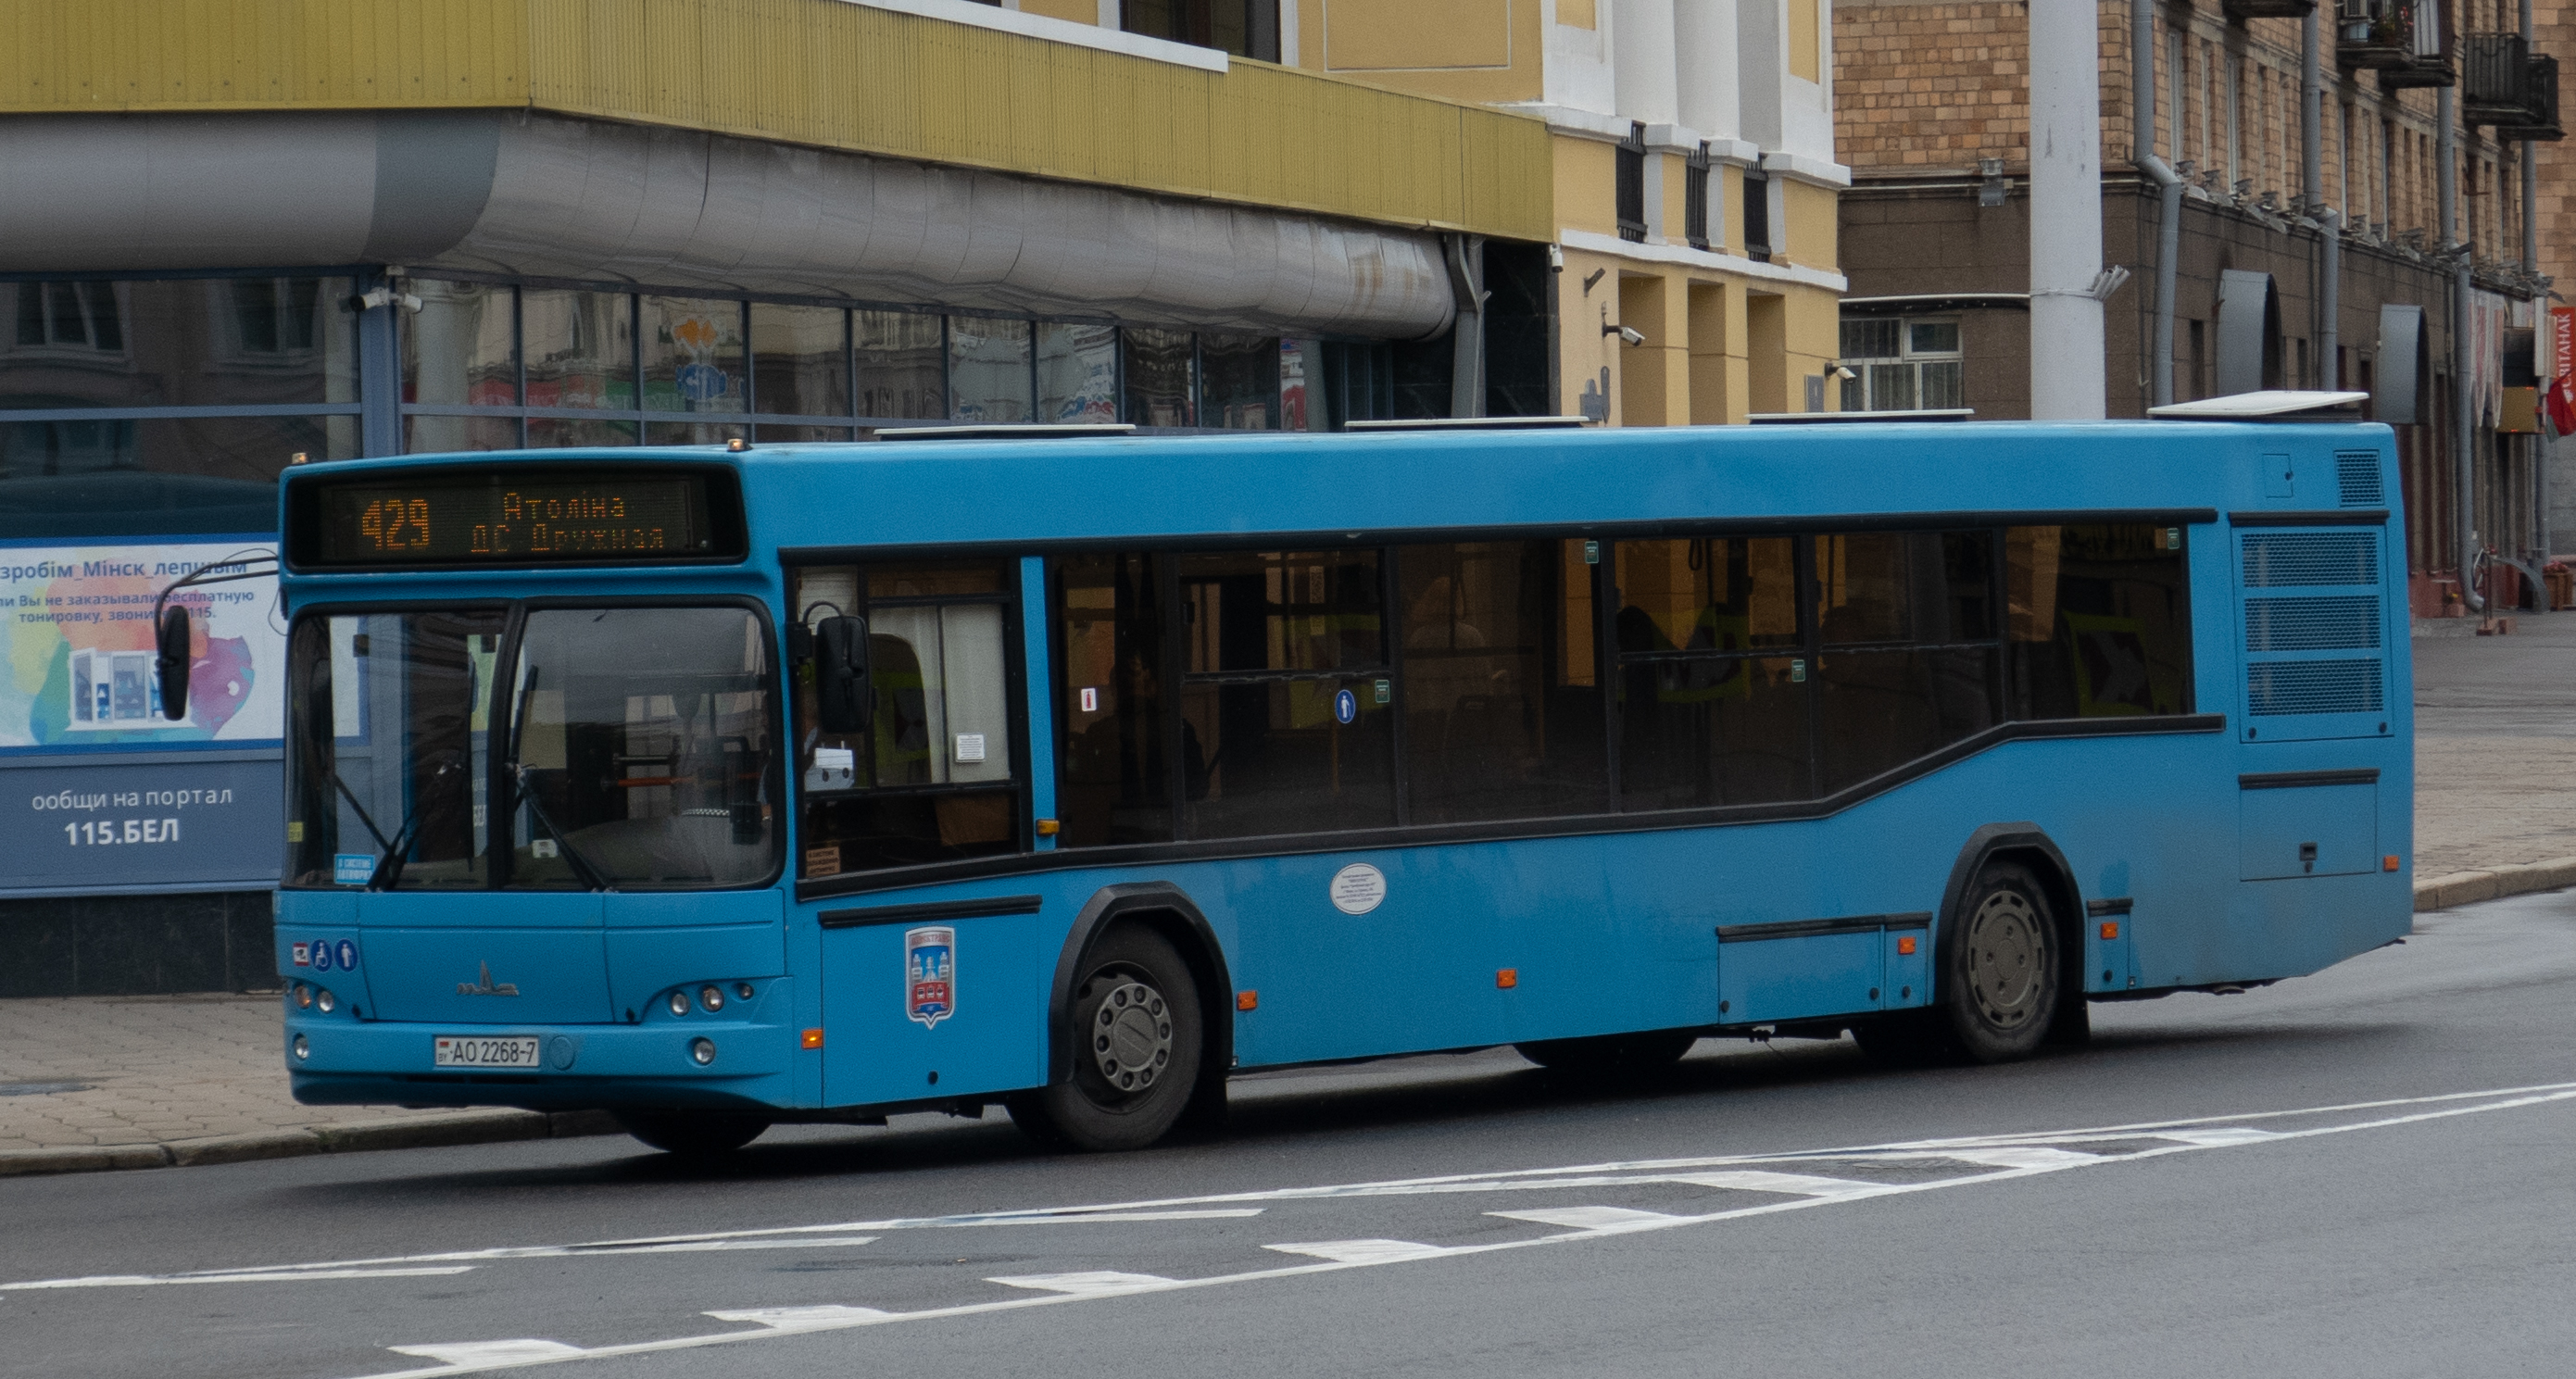bus: (264, 375, 2419, 1139)
